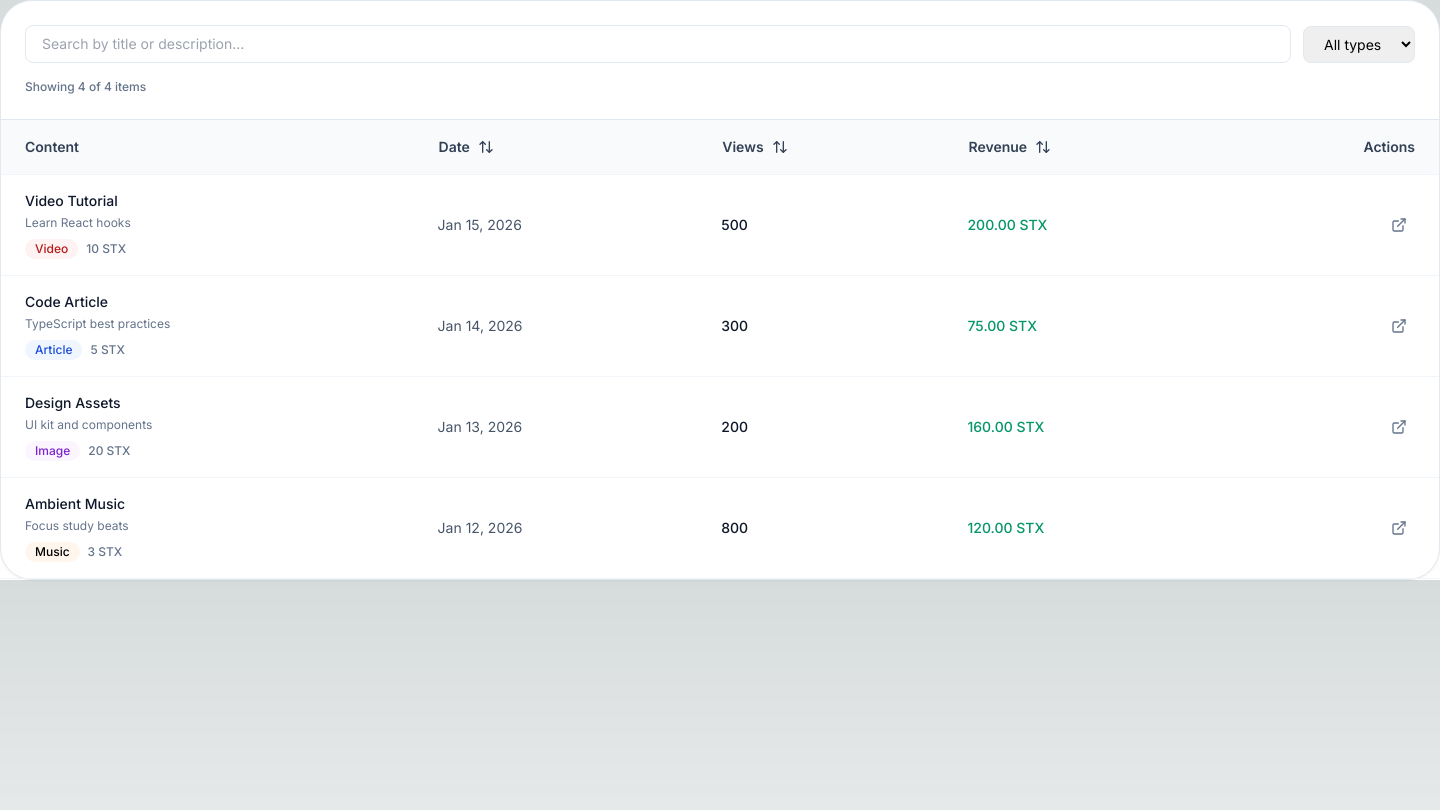
Test case: ContentBrowser Integration Tests › applies multiple filters independently
Note: Filter by video type
Select "Video" in the dropdown named "filter". click: (1359, 44)
box: [1303,26,1415,62]
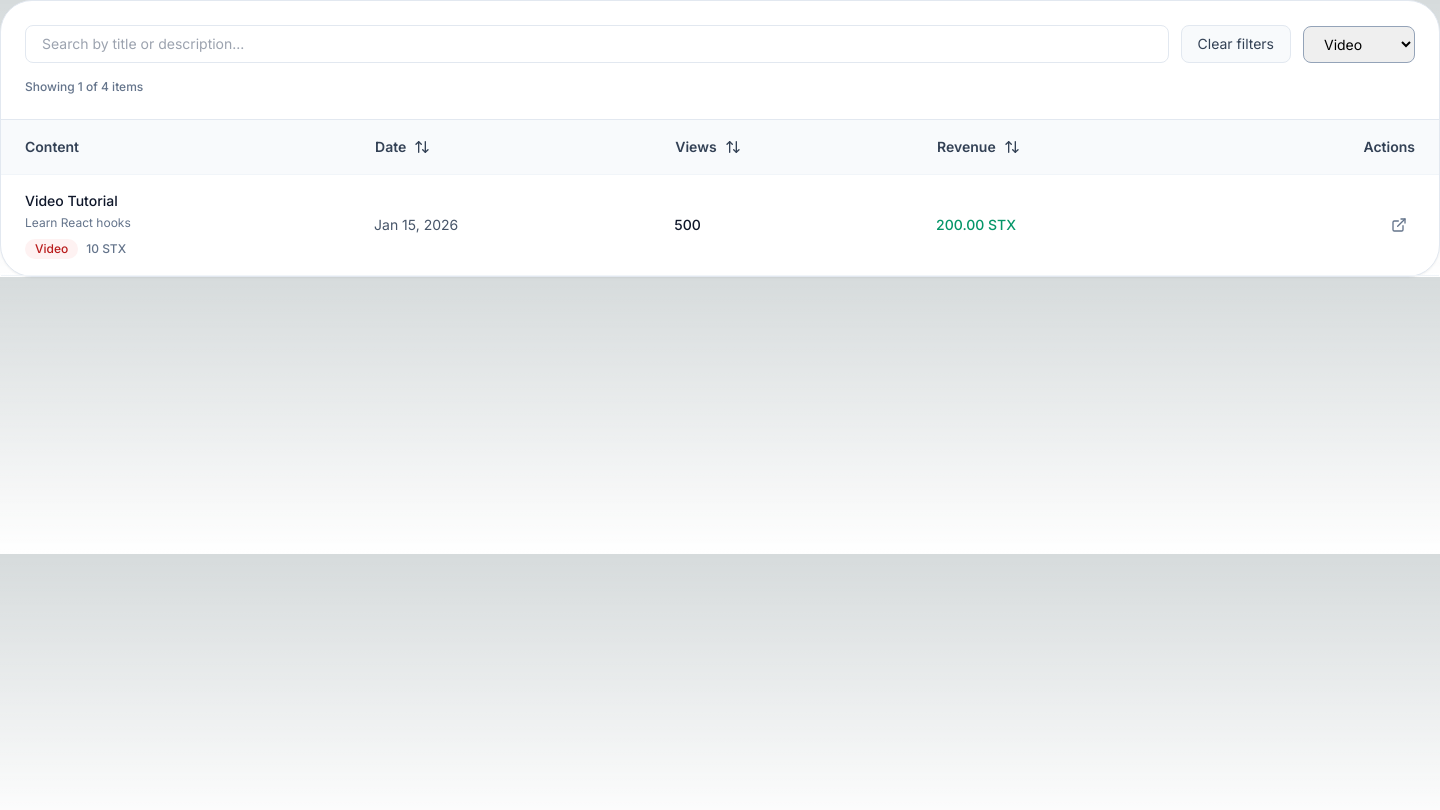
Check: the text "Video Tutorial" is shown, box [25,192,118,209]
Check: the text "Showing 1 of 4 items" is shown, box [25,79,143,94]
Check: the text "Code Article" is gone
